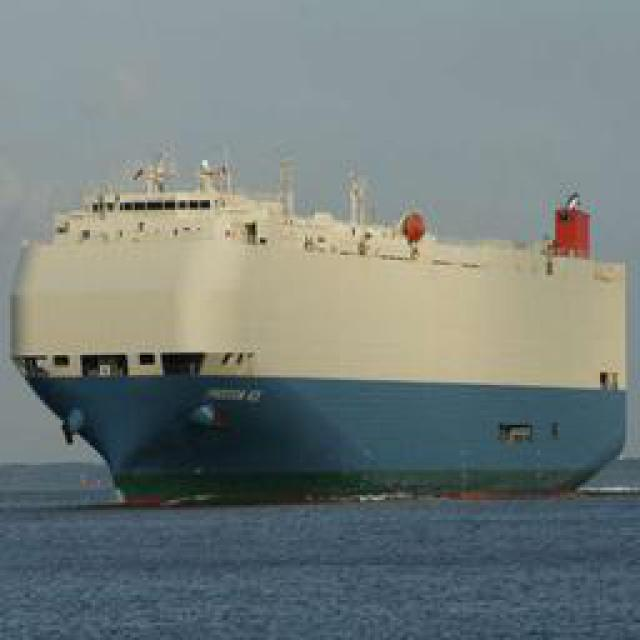Ship: (21, 180, 634, 510)
